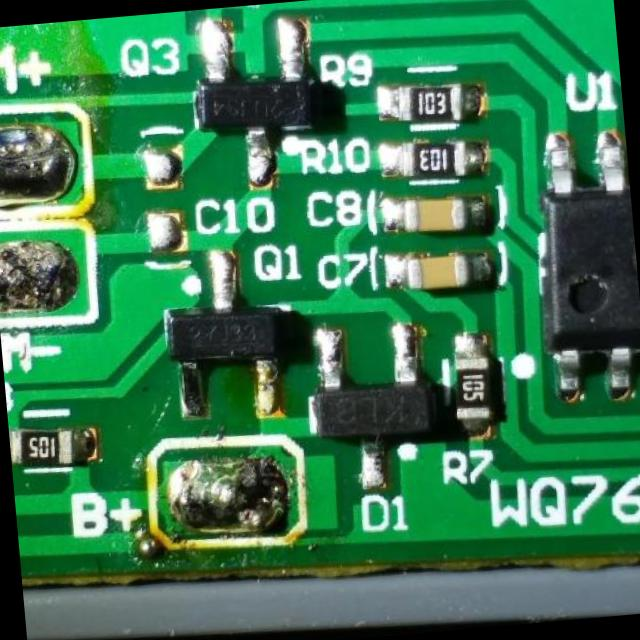IC: (538, 137, 640, 397)
capacitor: (400, 192, 486, 243), (412, 252, 480, 292)
resistor: (454, 344, 504, 442), (399, 134, 475, 188), (390, 78, 470, 128), (14, 418, 80, 471)
transistor: (157, 263, 280, 407), (192, 35, 318, 159), (307, 345, 425, 471)
